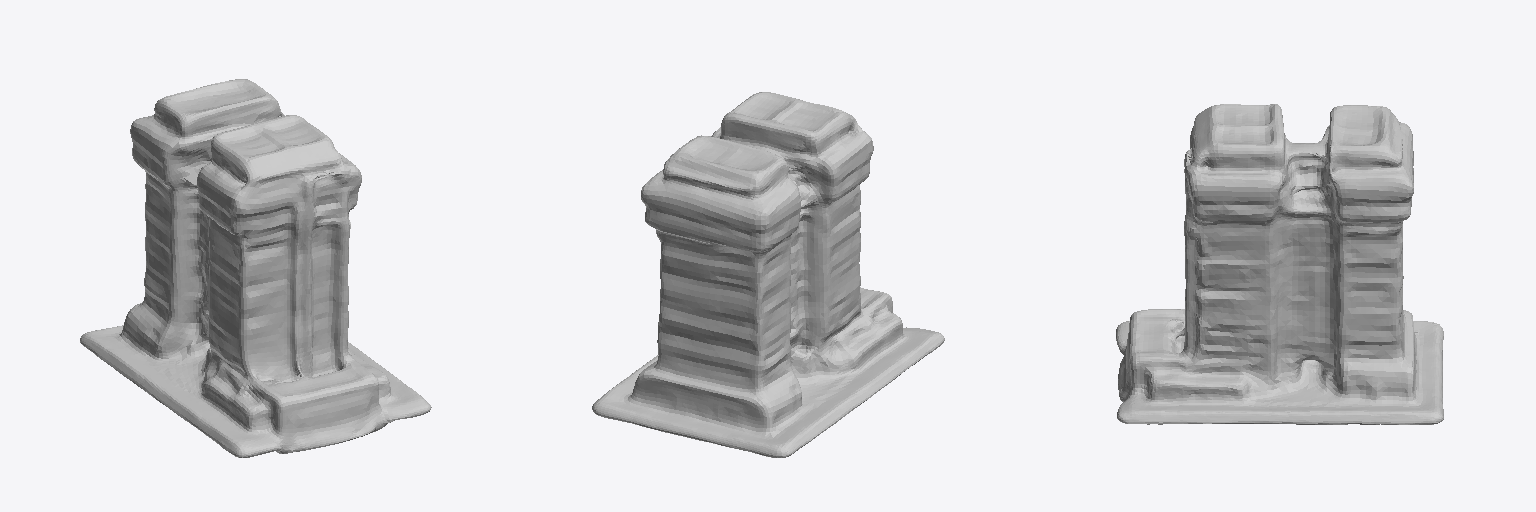
Rendered from 1e5f577c9344_sci_fi_residential_.obj.
The picture shows the model from 3 angles: view 1: azimuth 30°, elevation 25°; view 2: azimuth 150°, elevation 25°; view 3: azimuth 270°, elevation 25°; orthographic projection.
Visible parts, largest first — view 1: mesh; view 2: mesh; view 3: mesh.
Boxes of the visible parts, x1,y1,x2,y2 form: mesh: [80, 79, 431, 457]; mesh: [592, 92, 944, 457]; mesh: [1116, 104, 1443, 424].
Bounding box in the file's own units: 0.7002 × 0.8896 × 0.9948.